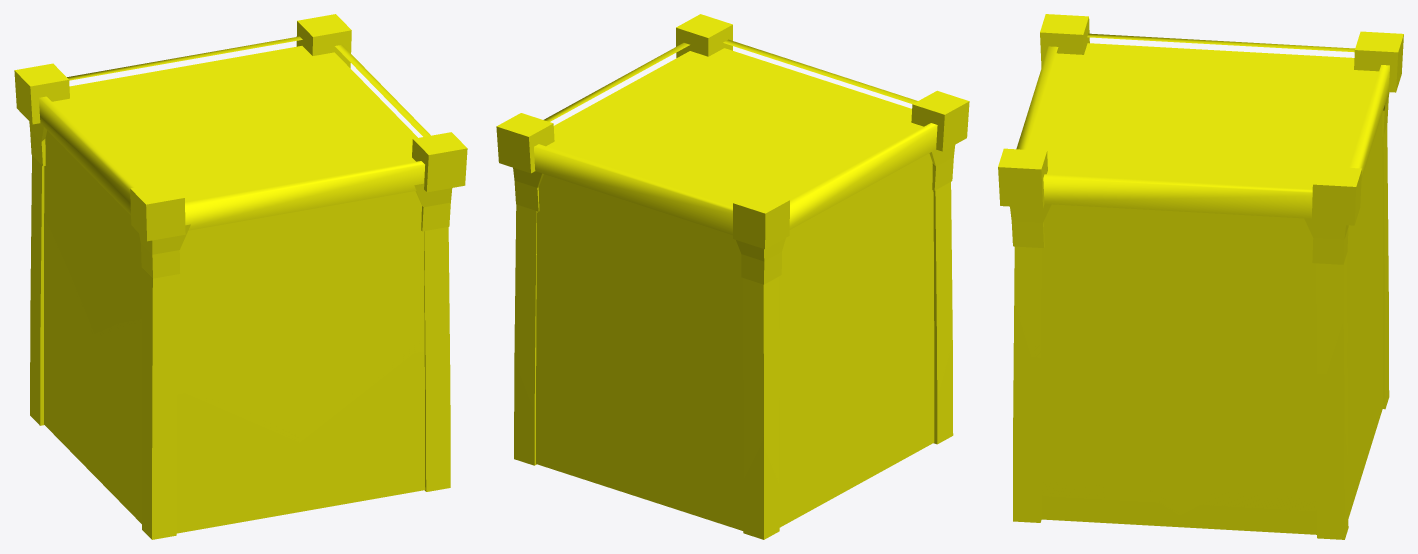
The model's file is 1st_pillar_002.glb.
3 views of the same model, side by side, from view 1: azimuth 30°, elevation 25°; view 2: azimuth 150°, elevation 25°; view 3: azimuth 270°, elevation 25° (orthographic). The views are drawn at different scales.
Visible parts, largest first — view 1: Object23; view 2: Object23; view 3: Object23.
Boxes of the visible parts, left/top/right/bottom form: Object23: left=14, top=14, right=467, bottom=539; Object23: left=496, top=14, right=969, bottom=539; Object23: left=998, top=14, right=1403, bottom=539.
Bounding box in the file's own units: 3.5 × 3.39 × 3.47.
1 material, 1 textured.
